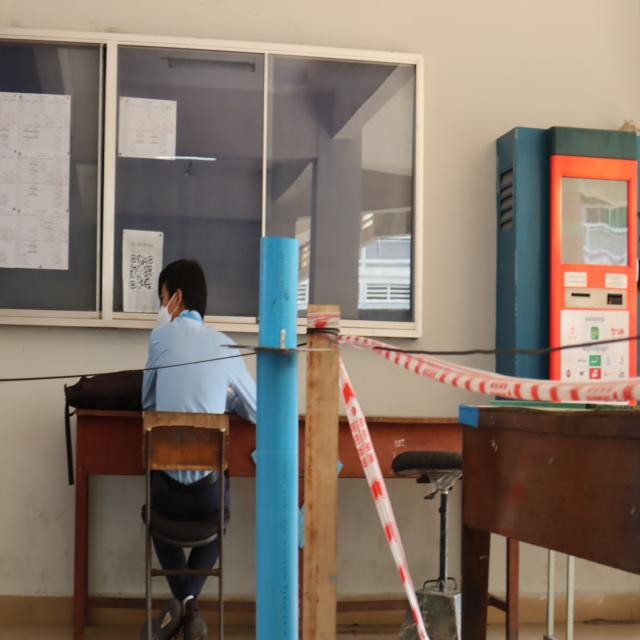pole: (228, 232, 329, 461)
